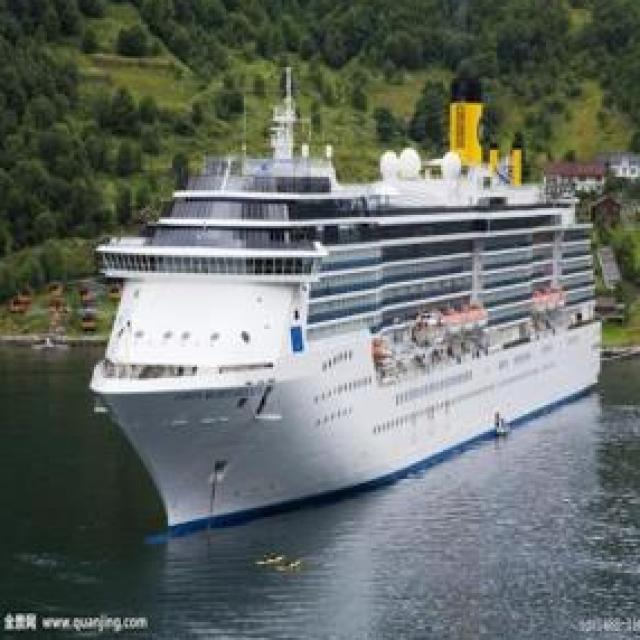passenger ship: (92, 141, 605, 518)
